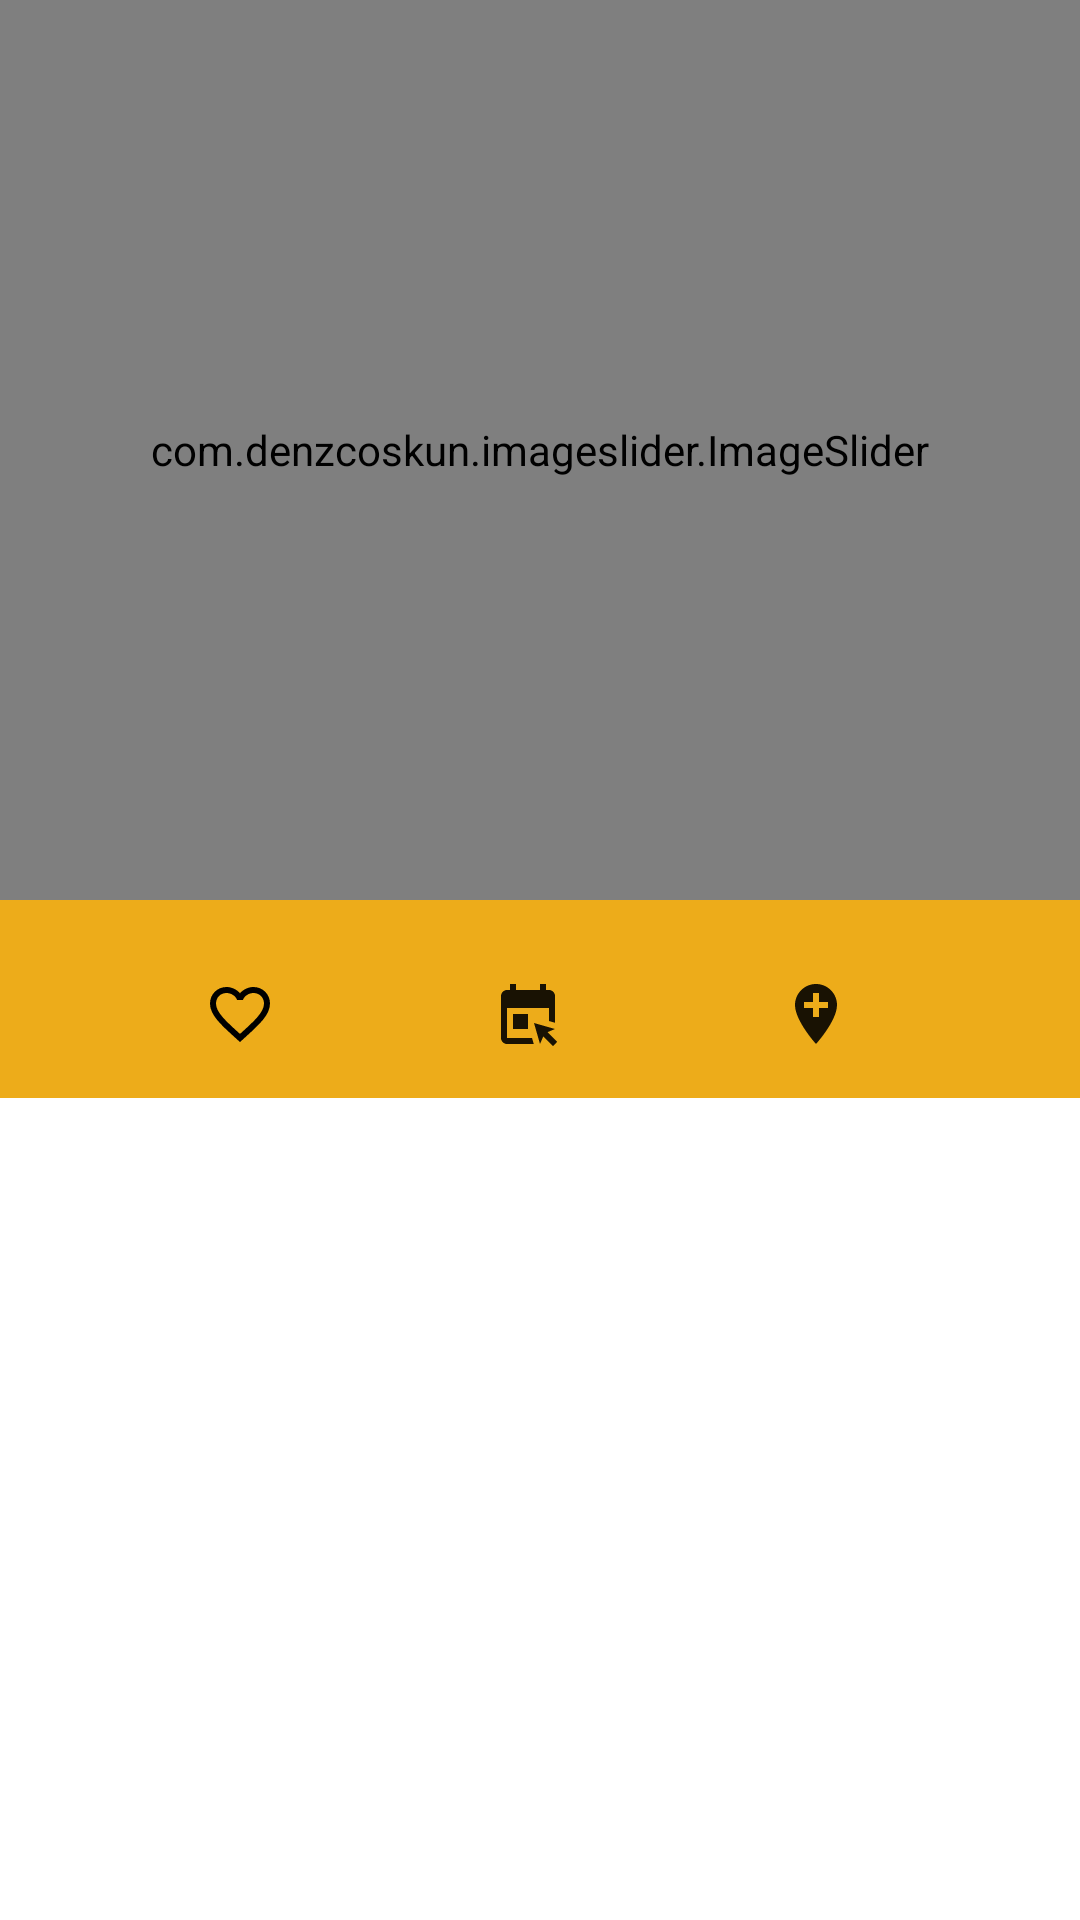

Icons on this 1080 × 1920 Android screen, each with the point to tap as point (x, y):
fave unchecked: point (240, 1014)
plan unchecked: point (529, 1015)
